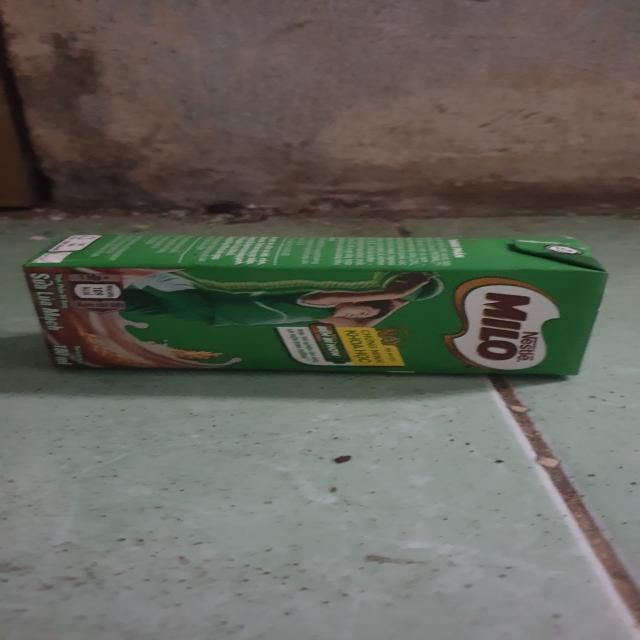Milo: (32, 234, 608, 387)
